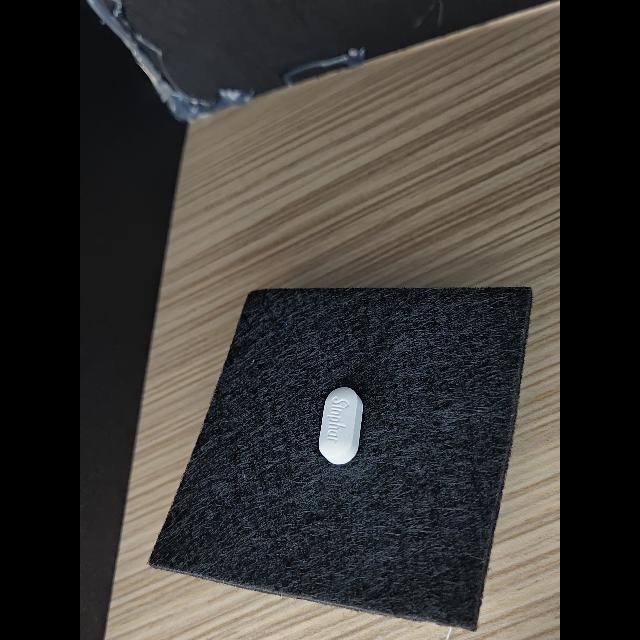Intact Pill: (319, 387, 363, 464)
